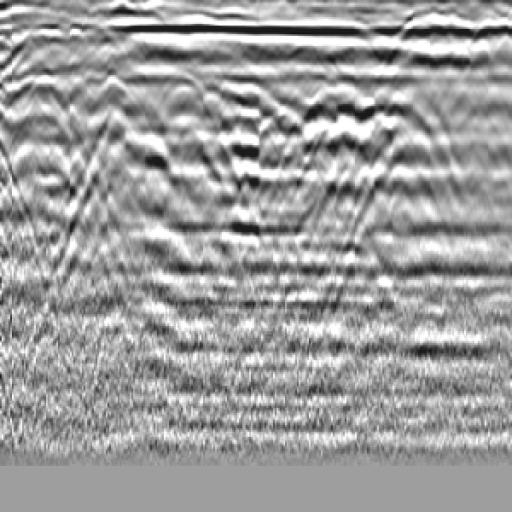metalic: (93, 59, 151, 144)
